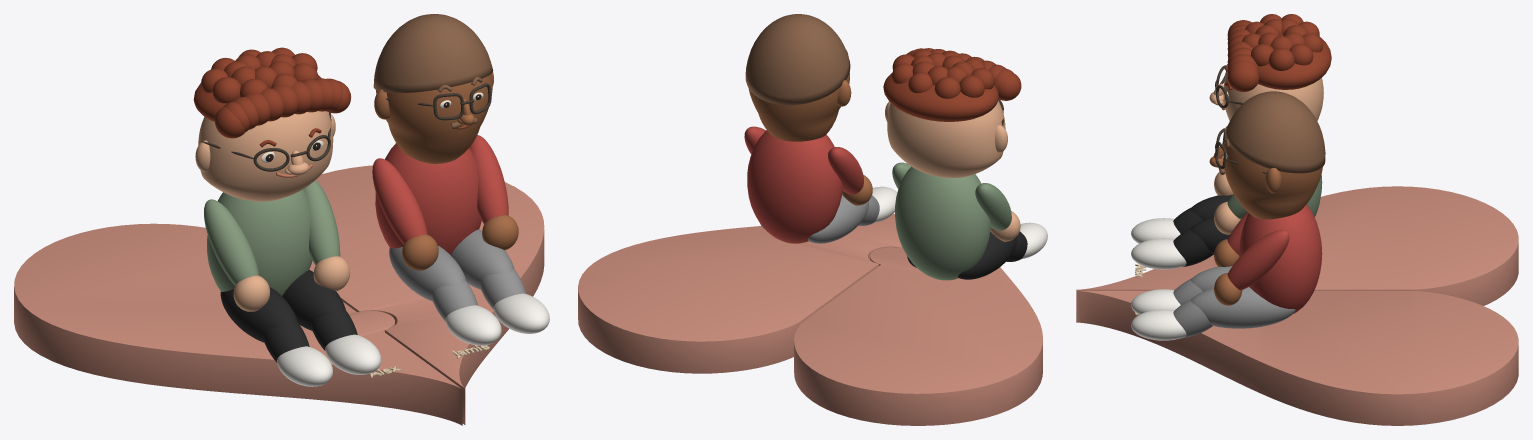
The picture shows the model from 3 angles, left to right: view 1: azimuth 30°, elevation 25°; view 2: azimuth 150°, elevation 25°; view 3: azimuth 270°, elevation 25°; orthographic projection. The views are drawn at different scales.
Parts seen in each view (by area): view 1: HEART_BASE_LEFT, HEART_BASE_RIGHT, HEAD_LEFT, BUZZ_SCALP_right, BODY_LEFT, BODY_RIGHT, HEAD_RIGHT, ARM_left_0, ARM_right_0, ARM_right_1, THIGH_right_0, THIGH_left_1 (+19 smaller); view 2: HEART_BASE_LEFT, HEART_BASE_RIGHT, BODY_LEFT, BODY_RIGHT, BUZZ_SCALP_right, HEAD_LEFT, HEAD_RIGHT, HAIR_CAP_left, THIGH_right_0, THIGH_left_0, ARM_left_0, ARM_right_0 (+5 smaller); view 3: HEART_BASE_RIGHT, HEART_BASE_LEFT, BUZZ_SCALP_right, BODY_RIGHT, HEAD_RIGHT, THIGH_right_1, ARM_right_1, HAIR_CAP_left, HEAD_LEFT, SHOE_left_1, SHOE_right_1, SHOE_right_0 (+13 smaller).
Boxes of the visible parts, <box> form: HEART_BASE_LEFT: <box>14,223,462,425</box>; HEART_BASE_RIGHT: <box>309,165,544,424</box>; HEAD_LEFT: <box>198,111,333,201</box>; BUZZ_SCALP_right: <box>373,14,493,92</box>; BODY_LEFT: <box>207,189,312,295</box>; BODY_RIGHT: <box>375,143,481,254</box>; HEAD_RIGHT: <box>376,74,492,163</box>; ARM_left_0: <box>204,199,259,285</box>; ARM_right_0: <box>372,158,427,244</box>; ARM_right_1: <box>469,135,508,224</box>; THIGH_right_0: <box>389,246,465,301</box>; THIGH_left_1: <box>282,270,345,330</box>; HEART_BASE_LEFT: <box>794,247,1042,425</box>; HEART_BASE_RIGHT: <box>578,214,902,373</box>; BODY_LEFT: <box>895,166,990,280</box>; BODY_RIGHT: <box>747,130,842,243</box>; BUZZ_SCALP_right: <box>745,14,850,105</box>; HEAD_LEFT: <box>887,100,1005,177</box>; HEAD_RIGHT: <box>748,72,849,141</box>; HAIR_CAP_left: <box>883,73,998,121</box>; THIGH_right_0: <box>808,195,868,243</box>; THIGH_left_0: <box>958,231,1016,279</box>; ARM_left_0: <box>975,183,1011,230</box>; ARM_right_0: <box>828,147,863,194</box>; HEART_BASE_RIGHT: <box>1076,291,1518,425</box>; HEART_BASE_LEFT: <box>1076,186,1518,305</box>; BUZZ_SCALP_right: <box>1225,91,1325,173</box>; BODY_RIGHT: <box>1239,204,1322,313</box>; HEAD_RIGHT: <box>1223,138,1322,219</box>; THIGH_right_1: <box>1191,287,1295,328</box>; ARM_right_1: <box>1227,230,1289,290</box>; HAIR_CAP_left: <box>1258,34,1331,89</box>; HEAD_LEFT: <box>1223,70,1323,120</box>; SHOE_left_1: <box>1131,238,1186,269</box>; SHOE_right_1: <box>1131,309,1186,340</box>; SHOE_right_0: <box>1131,289,1180,314</box>.
Bounding box in the file's own units: 4.5 × 2.65 × 4.05.
